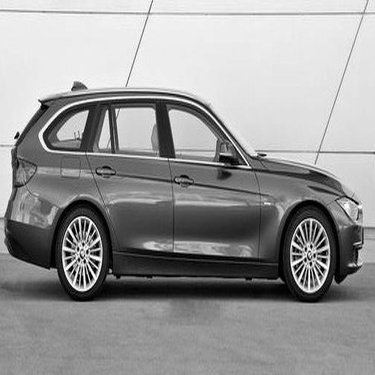car: (1, 76, 365, 304)
